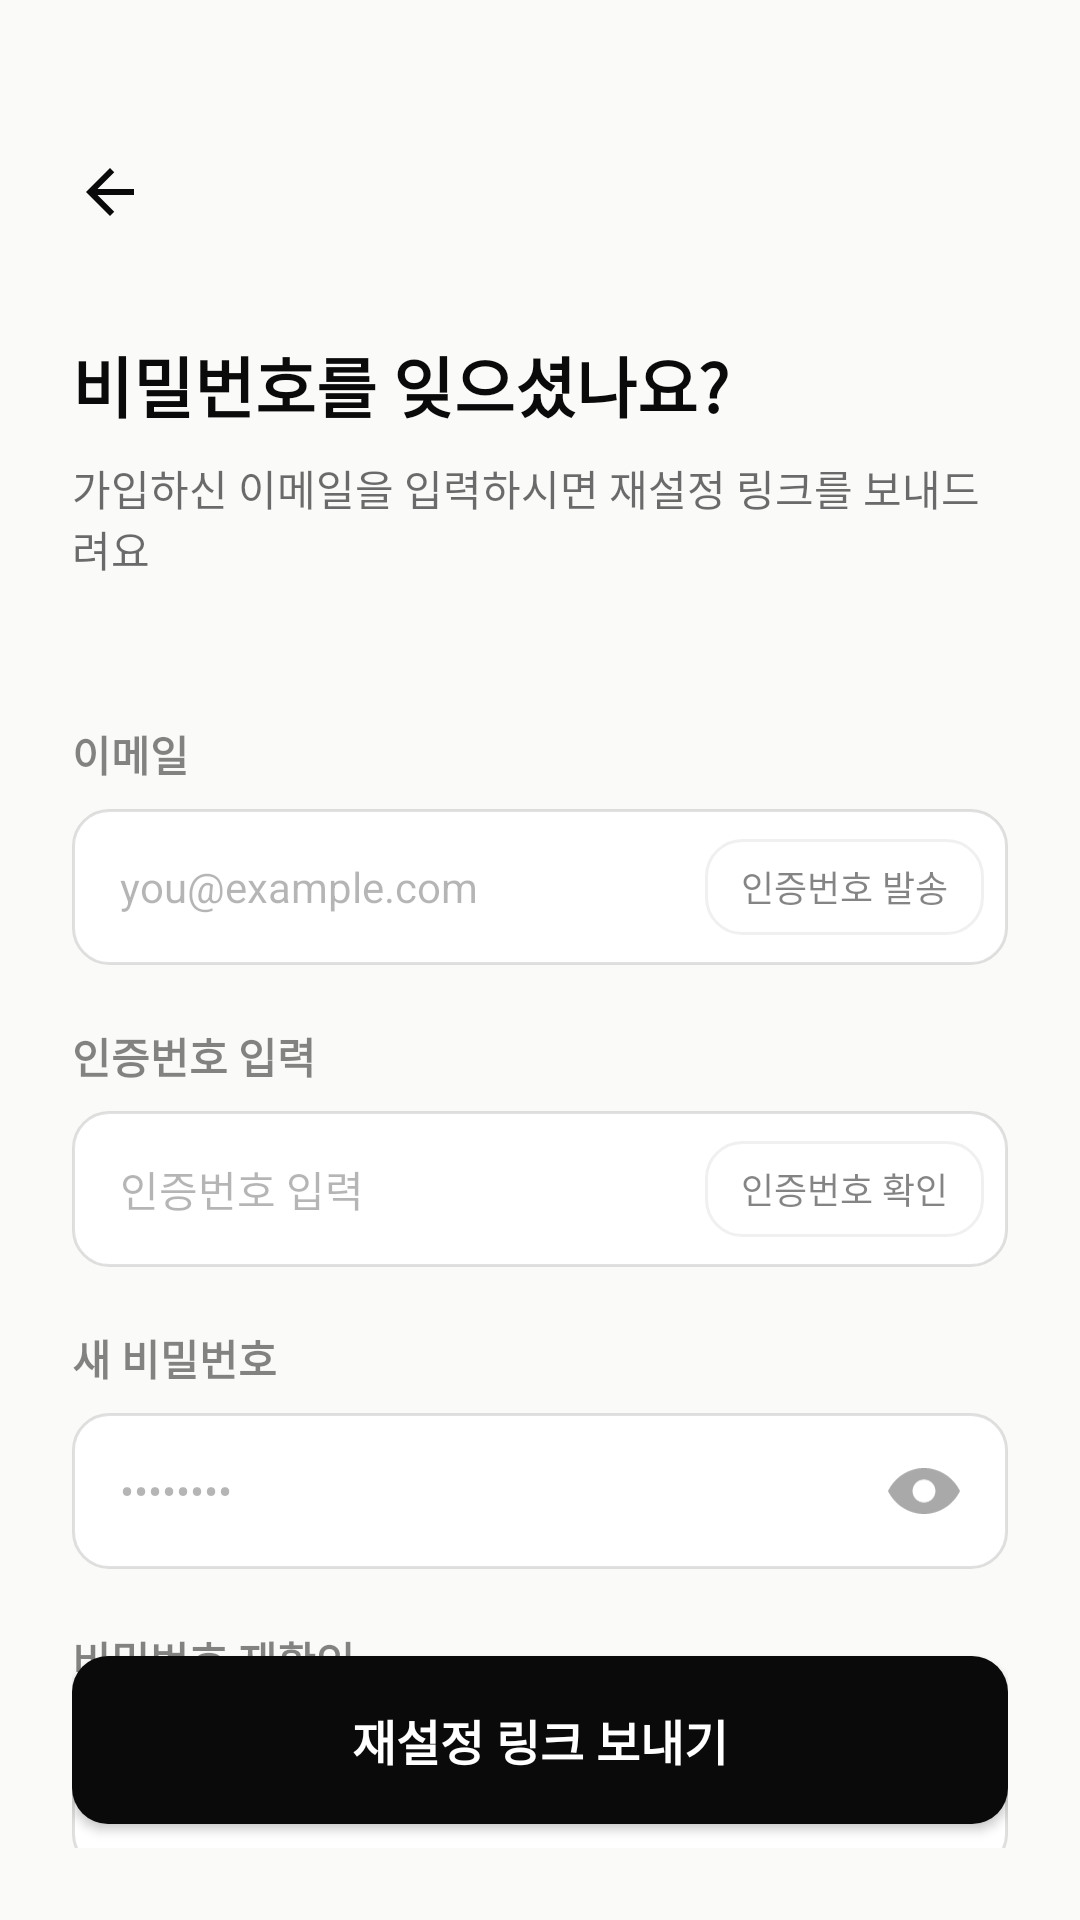

Point at icon controls on the screen. Image size 1080 x 1920, points as [x,y].
back: [110,192]
